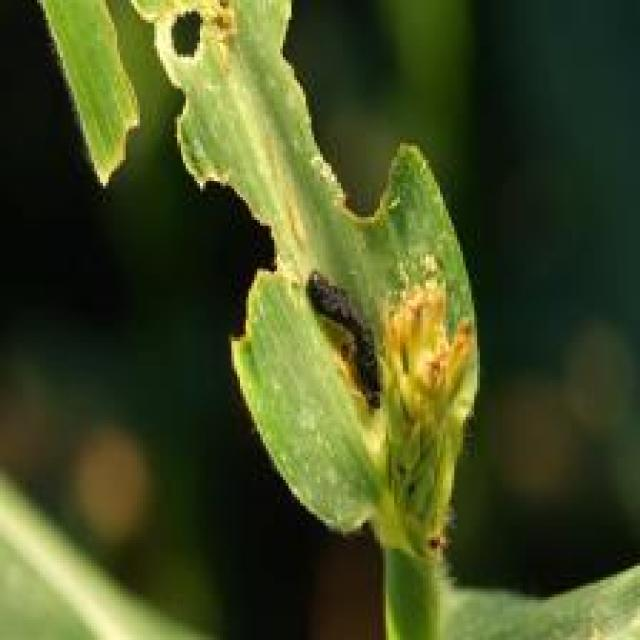Plaga: (304, 251, 378, 422)
